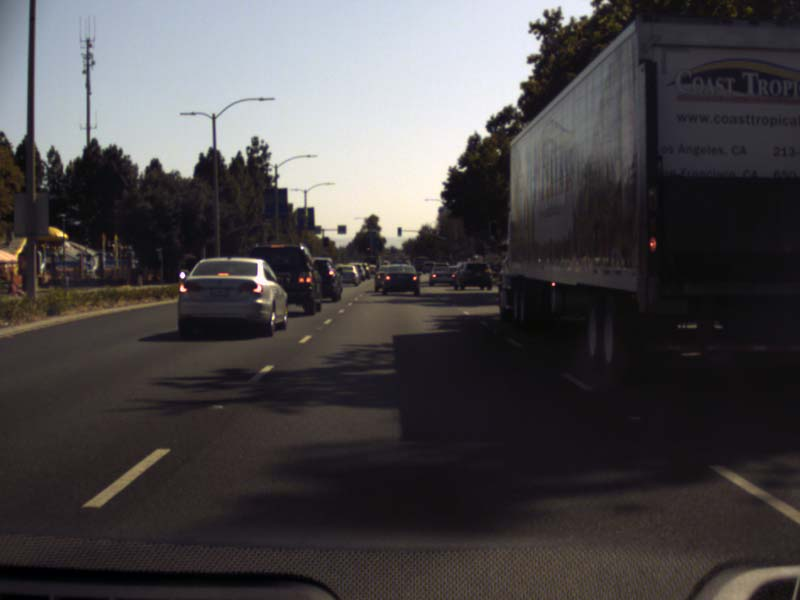Red: (365, 245, 370, 255)
